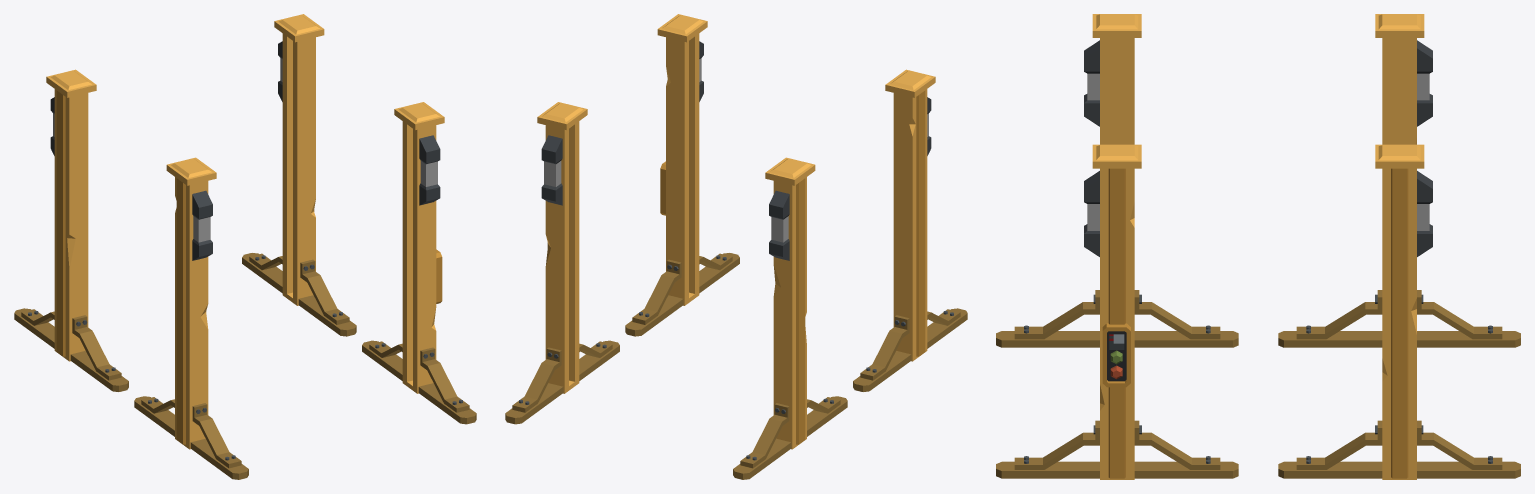
File: SM_Prop_MechanicLift_01.fbx
3 renders of one model, left to right at view 1: azimuth 30°, elevation 25°; view 2: azimuth 150°, elevation 25°; view 3: azimuth 270°, elevation 25°, orthographic. The views are drawn at different scales.
Parts seen in each view (by area): view 1: SM_Prop_MechanicLift_01; view 2: SM_Prop_MechanicLift_01; view 3: SM_Prop_MechanicLift_01.
Boxes of the visible parts, x1=… form: SM_Prop_MechanicLift_01: x1=14, y1=14, x2=476, y2=479; SM_Prop_MechanicLift_01: x1=505, y1=14, x2=967, y2=479; SM_Prop_MechanicLift_01: x1=996, y1=14, x2=1520, y2=479.
Bounding box in the file's own units: 315 × 319 × 468.
